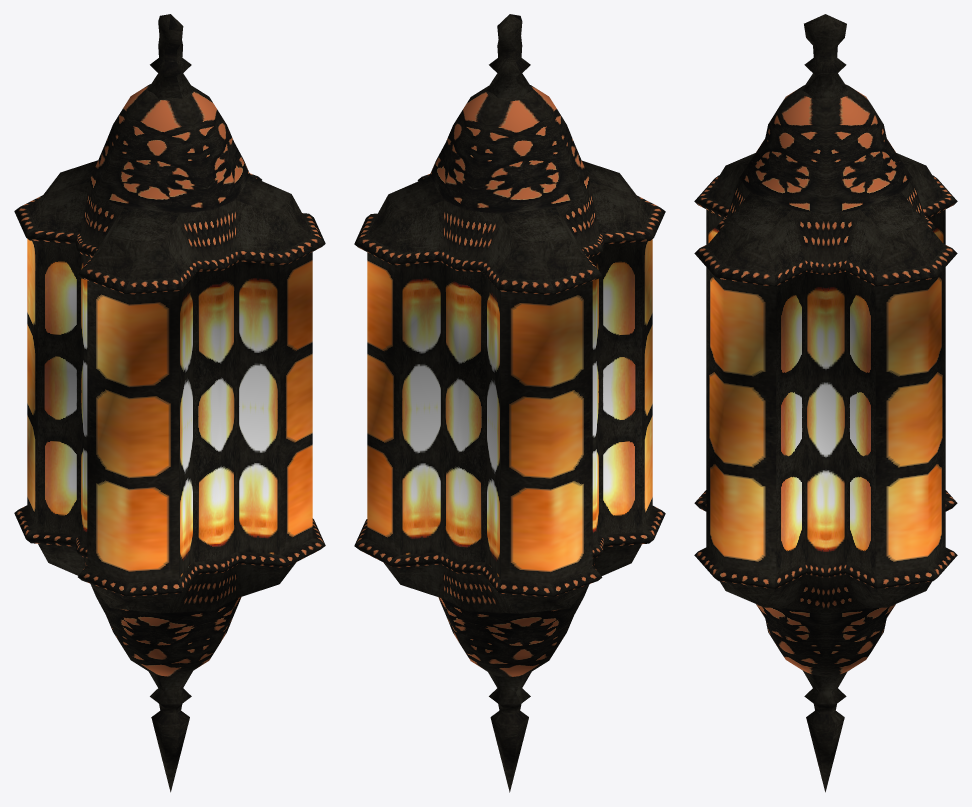
The model's file is Lantern_Turkish.fbx.
3 renders of one model, left to right at view 1: azimuth 30°, elevation 25°; view 2: azimuth 150°, elevation 25°; view 3: azimuth 270°, elevation 25°, orthographic.
Parts seen in each view (by area): view 1: Lantern.001; view 2: Lantern.001; view 3: Lantern.001.
Boxes of the visible parts, x1,y1,x2,y2 form: Lantern.001: (14, 14, 325, 792); Lantern.001: (354, 14, 665, 792); Lantern.001: (694, 14, 957, 792).
Size of the model in its own units: 98.94 by 311 by 95.45.
